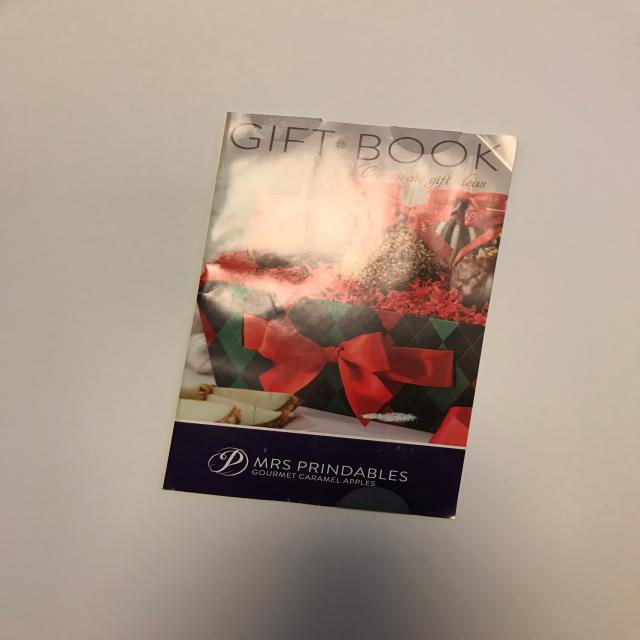paper: (163, 111, 517, 518)
